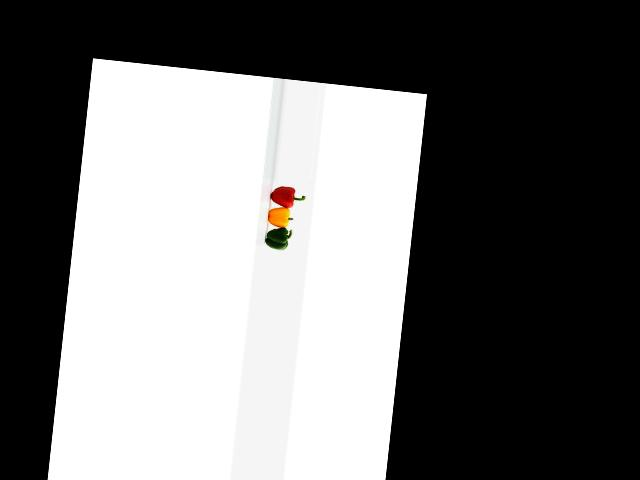bell_pepper: (265, 178, 309, 211)
